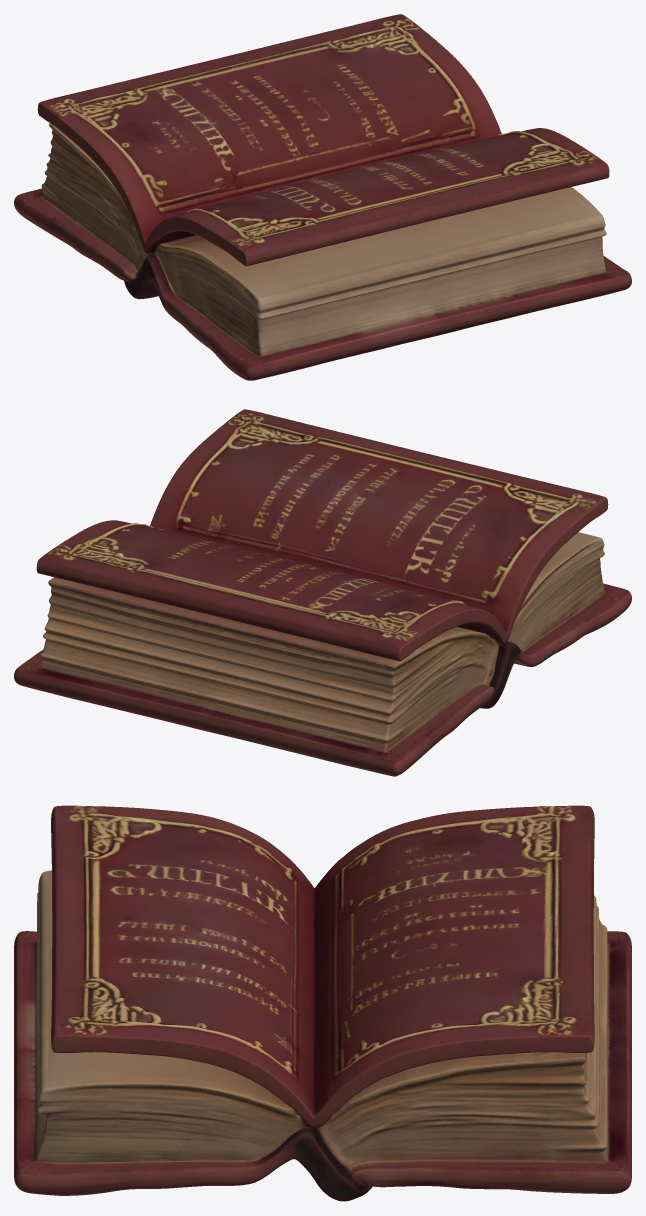
Rendered from detailed_realistic_model_leatherbound_02.glb.
3 renders of one model, top to bottom at view 1: azimuth 30°, elevation 25°; view 2: azimuth 150°, elevation 25°; view 3: azimuth 270°, elevation 25°, orthographic. The views are drawn at different scales.
Parts seen in each view (by area): view 1: tripo_node_f7f61c30-1a69-4276-8c93-073cab4dac17; view 2: tripo_node_f7f61c30-1a69-4276-8c93-073cab4dac17; view 3: tripo_node_f7f61c30-1a69-4276-8c93-073cab4dac17.
Boxes of the visible parts, x1,y1,x2,y2 form: tripo_node_f7f61c30-1a69-4276-8c93-073cab4dac17: (14,14,631,380); tripo_node_f7f61c30-1a69-4276-8c93-073cab4dac17: (14,409,631,776); tripo_node_f7f61c30-1a69-4276-8c93-073cab4dac17: (14,805,631,1201).
Bounding box in the file's own units: 0.9378 × 0.3129 × 1.
Materials: 1 (1 with a texture image).
